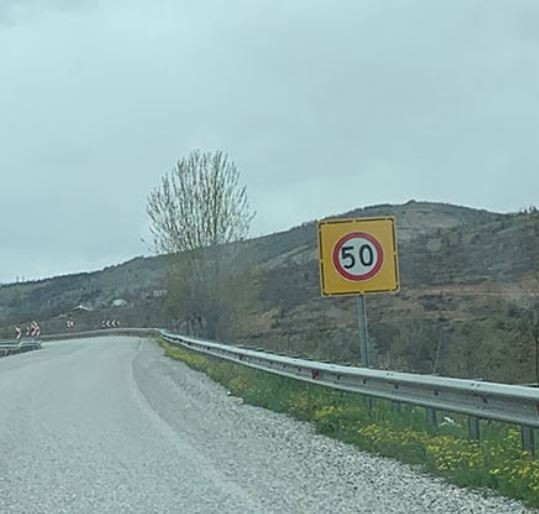50 Km Hiz Siniri: (332, 229, 387, 281)
